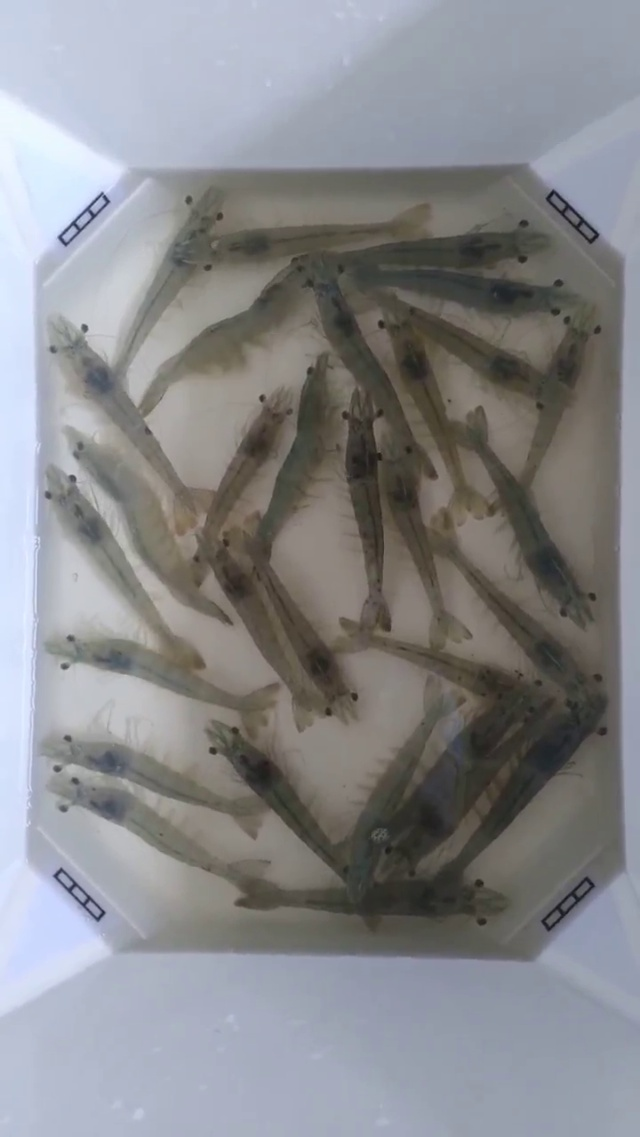shrimp: (0, 544, 123, 784), (561, 526, 639, 824), (321, 303, 436, 505), (564, 454, 639, 753), (544, 223, 639, 453), (37, 209, 136, 407), (82, 347, 190, 499), (392, 628, 517, 753), (455, 170, 562, 316), (325, 240, 442, 373), (50, 315, 157, 460), (195, 410, 282, 583), (184, 686, 273, 840), (135, 186, 223, 334), (45, 466, 140, 602), (518, 313, 588, 488), (139, 490, 230, 622), (201, 187, 299, 304), (0, 215, 38, 486), (0, 364, 38, 629), (47, 726, 135, 828), (140, 624, 241, 709), (289, 617, 364, 731), (435, 869, 540, 949), (0, 649, 36, 868), (428, 461, 496, 567), (337, 569, 391, 651)
